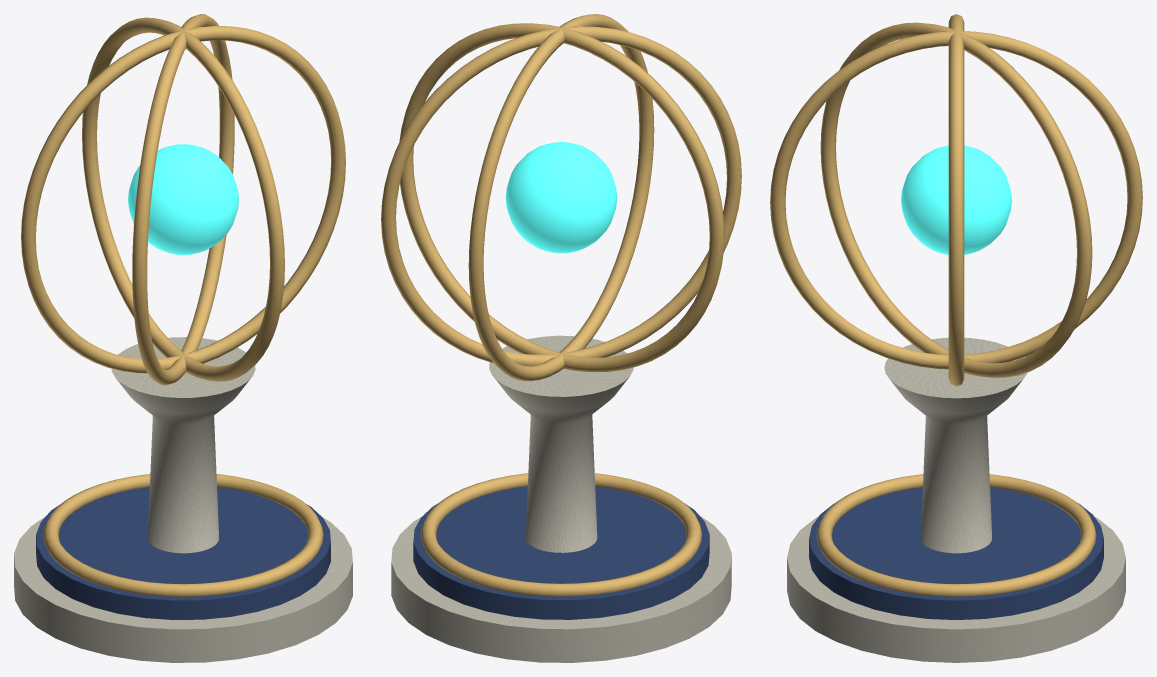
The model's file is arcane-academy-and-spell-trials-armillary-sphere-45e407a8__28290.glb.
3 views of the same model, side by side, from view 1: azimuth 30°, elevation 25°; view 2: azimuth 150°, elevation 25°; view 3: azimuth 270°, elevation 25° (orthographic).
Parts seen in each view (by area): view 1: armillary-sphere; view 2: armillary-sphere; view 3: armillary-sphere.
Part boxes in pixels (x1=…): armillary-sphere: x1=14, y1=14, x2=352, y2=662; armillary-sphere: x1=381, y1=14, x2=741, y2=662; armillary-sphere: x1=770, y1=14, x2=1142, y2=662.
Size of the model in its own units: 1.21 by 2 by 1.21.
4 materials, 1 textured.
